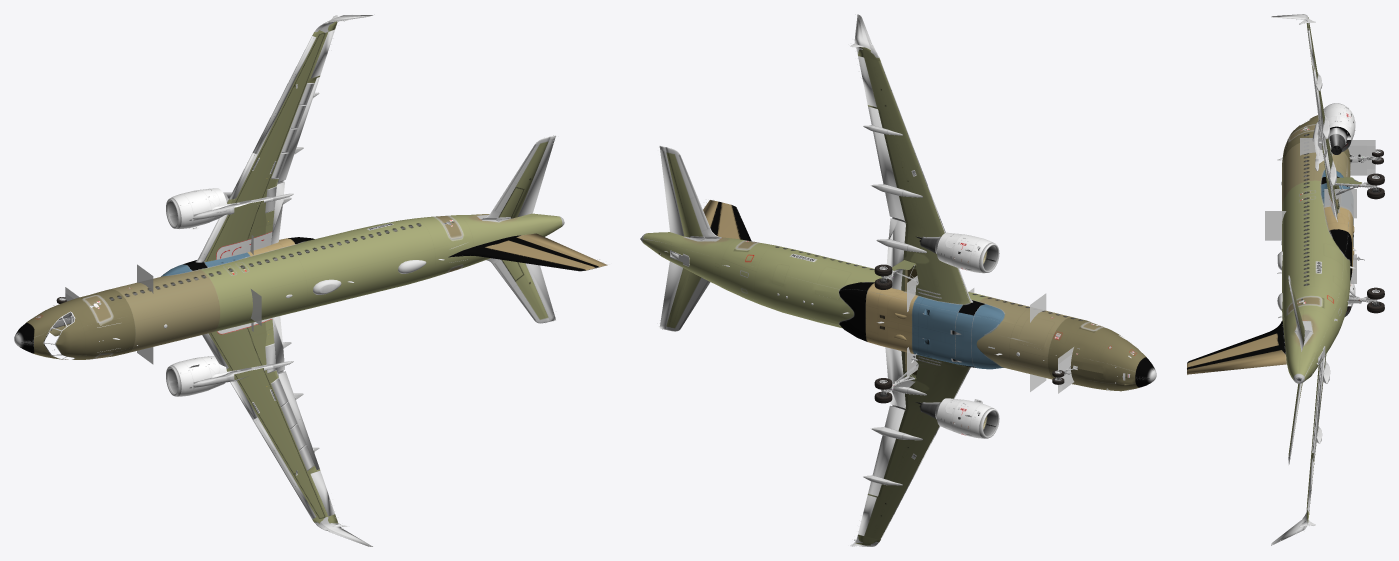
Rendered from a32x-fg.edb7c80d.glb.
The picture shows the model from 3 angles, left to right: view 1: azimuth 30°, elevation 25°; view 2: azimuth 150°, elevation 25°; view 3: azimuth 270°, elevation 25°; orthographic projection.
Parts seen in each view (by area): view 1: Fuselage, Wings, Hstabs, EngineCFM56R, EngineCFM56L, SlatR2, SlatL2, ElevatorR, Rudder, FlapL2, Sharklet; view 2: Fuselage, Wings, Hstabs, EngineCFM56L, EngineCFM56R, FlapR2, FlapL2, ElevatorR, FlapR1, Cargo2, Cargo1, FlapL1 (+2 smaller); view 3: Fuselage, landinglightals (×3), Rudder, Wings, EngineCFM56R, beaconals, Sharklet, Hstabs, MLGWheelsR, MLGWheelsL, Cargo2, PylonCFM56R (+4 smaller).
Boxes of the visible parts, x1,y1,x2,y2 form: Fuselage: (14,213,598,359); Wings: (204,32,328,519); Hstabs: (481,136,549,323); EngineCFM56R: (172,188,233,229); EngineCFM56L: (171,356,233,396); SlatR2: (229,36,316,199); SlatL2: (230,380,316,519); ElevatorR: (518,135,556,216); Rudder: (517,233,608,267); FlapL2: (277,371,319,469); Sharklet: (315,14,374,546); Fuselage: (640,201,1156,391); Wings: (864,57,970,539); Hstabs: (665,147,720,331); EngineCFM56L: (937,398,992,438); EngineCFM56R: (937,232,992,273); FlapR2: (868,106,904,221); FlapL2: (868,405,904,496); ElevatorR: (659,145,683,236); FlapR1: (886,218,905,290); Cargo2: (815,267,850,299); Cargo1: (1018,317,1054,349); FlapL1: (885,347,905,408); Fuselage: (1187,115,1356,383); landinglightals (×3): (1324,140,1375,218); Rudder: (1186,350,1286,374); Wings: (1307,25,1339,507); EngineCFM56R: (1318,103,1355,142); beaconals: (1265,211,1286,240); Sharklet: (1271,14,1308,545); Hstabs: (1288,275,1309,459); MLGWheelsR: (1367,173,1384,199); MLGWheelsL: (1367,287,1384,313); Cargo2: (1324,243,1348,272); PylonCFM56R: (1312,122,1331,163).
Size of what is drawn, in the model's own units: 37.61 by 35.77 by 12.24.
27 materials, 17 textured.
